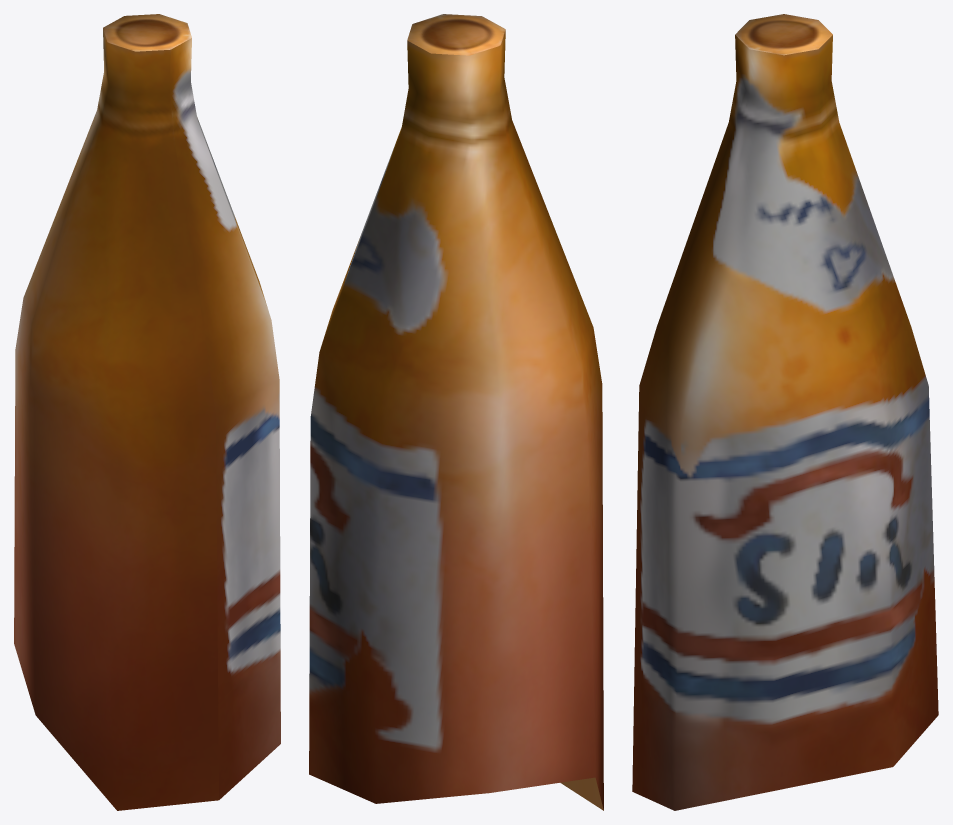
The model's file is 3D_recycle_trash_glass01.FBX.
3 views of the same model, side by side, from view 1: azimuth 30°, elevation 25°; view 2: azimuth 150°, elevation 25°; view 3: azimuth 270°, elevation 25° (orthographic). The views are drawn at different scales.
Visible parts, largest first — view 1: 3D_recycle_trash_glass01; view 2: 3D_recycle_trash_glass01; view 3: 3D_recycle_trash_glass01.
Boxes of the visible parts, box(x1,y1,x2,y2) form: 3D_recycle_trash_glass01: box(14, 14, 280, 810); 3D_recycle_trash_glass01: box(309, 14, 603, 810); 3D_recycle_trash_glass01: box(632, 14, 938, 810).
Bounding box in the file's own units: 0.2029 × 0.5875 × 0.2138.
